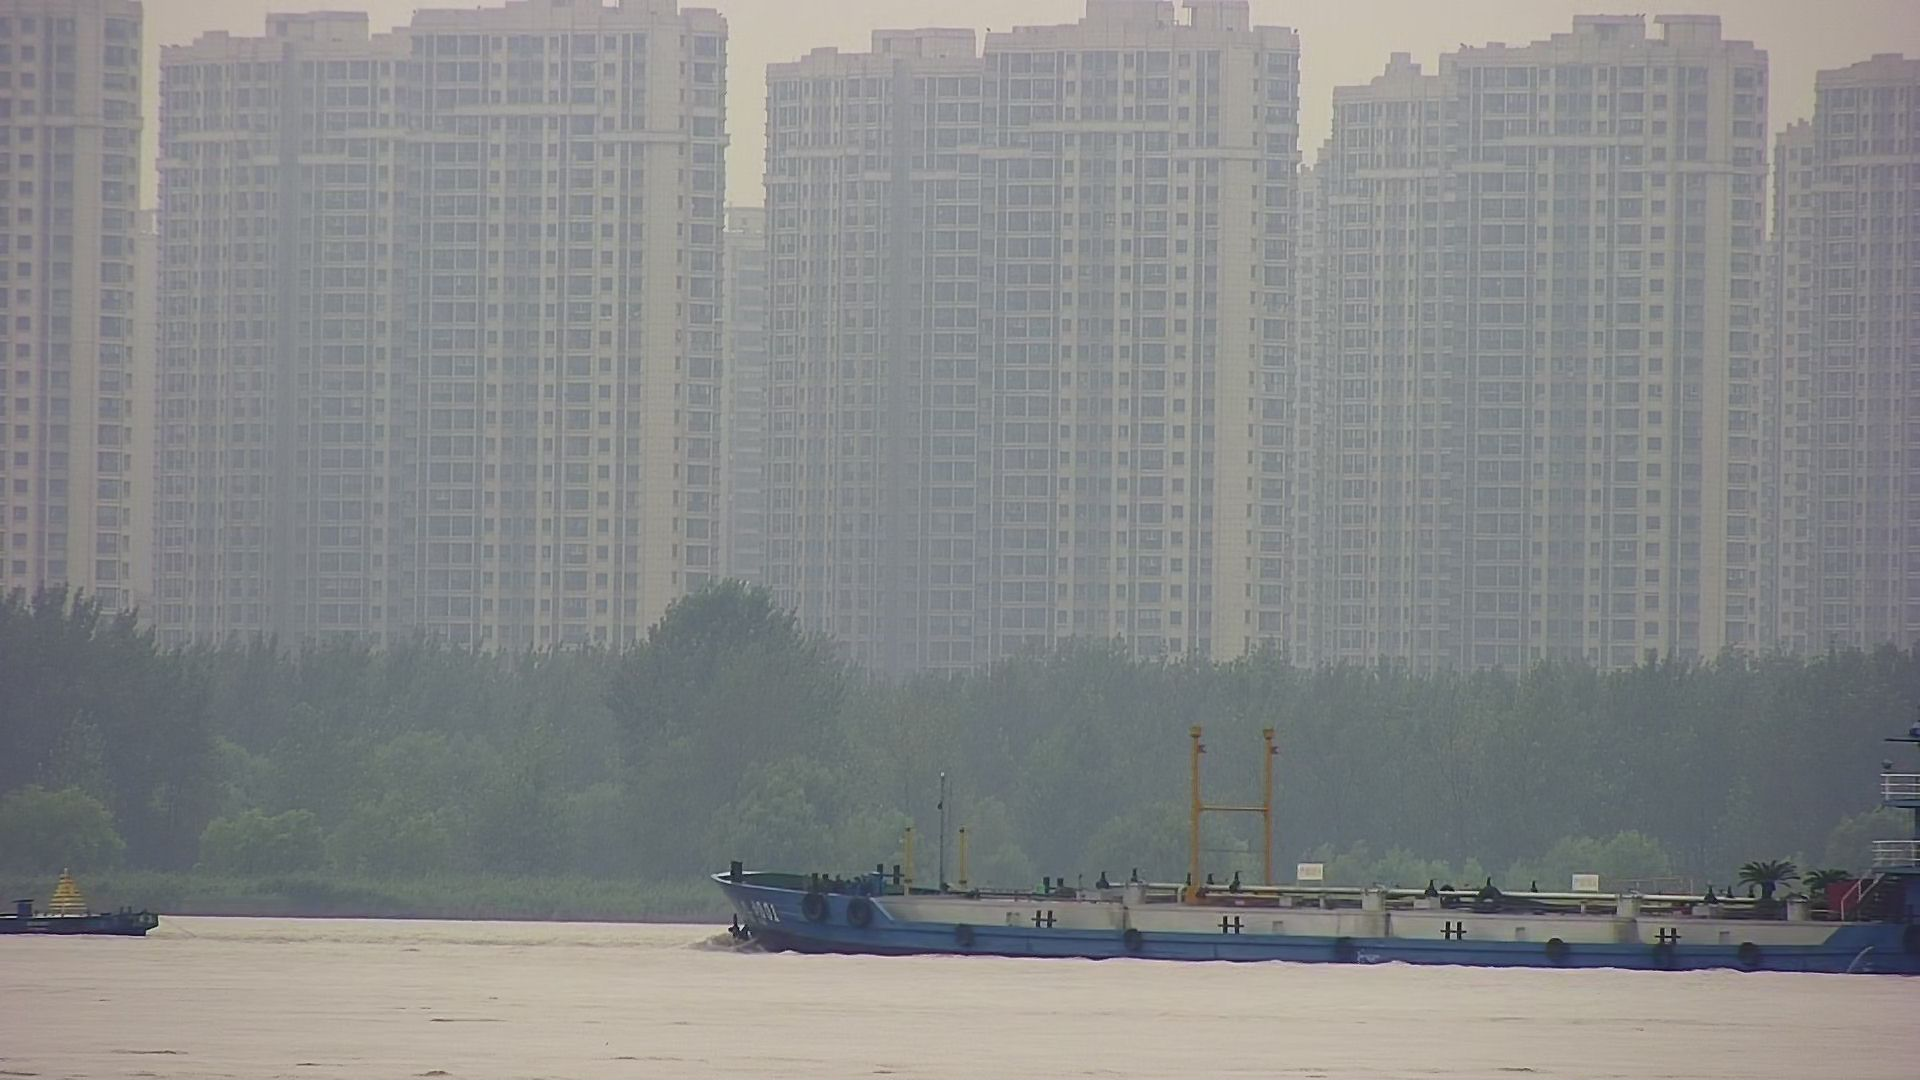boat: (1, 862, 164, 936)
ship: (709, 728, 1920, 971)
